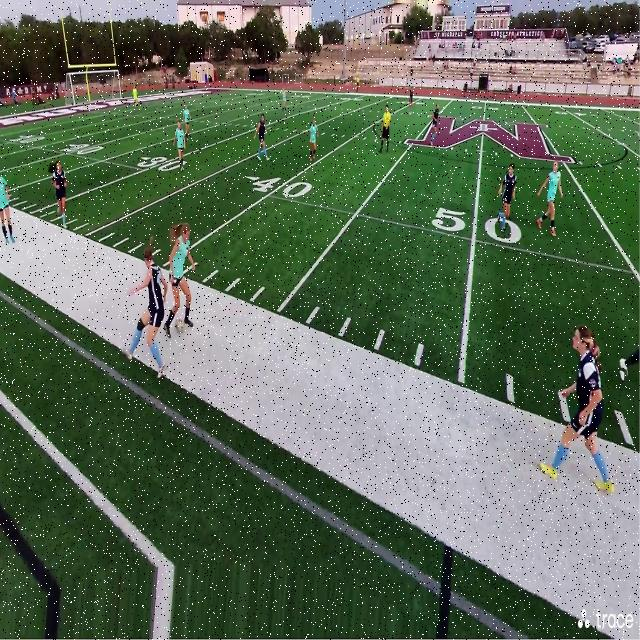Ball: (174, 316, 186, 335)
GoalKeeper: (132, 86, 141, 112)
Referee: (380, 106, 392, 154), (408, 86, 414, 113), (356, 74, 362, 93)
TEAM 1: (536, 314, 614, 510), (132, 247, 168, 381), (50, 162, 74, 234), (497, 158, 517, 237), (256, 114, 268, 163), (429, 100, 441, 149)
TEAM 2: (166, 221, 198, 344), (537, 162, 566, 238), (0, 176, 17, 248), (175, 120, 186, 168), (308, 119, 317, 164), (182, 102, 191, 142), (282, 88, 287, 114)
